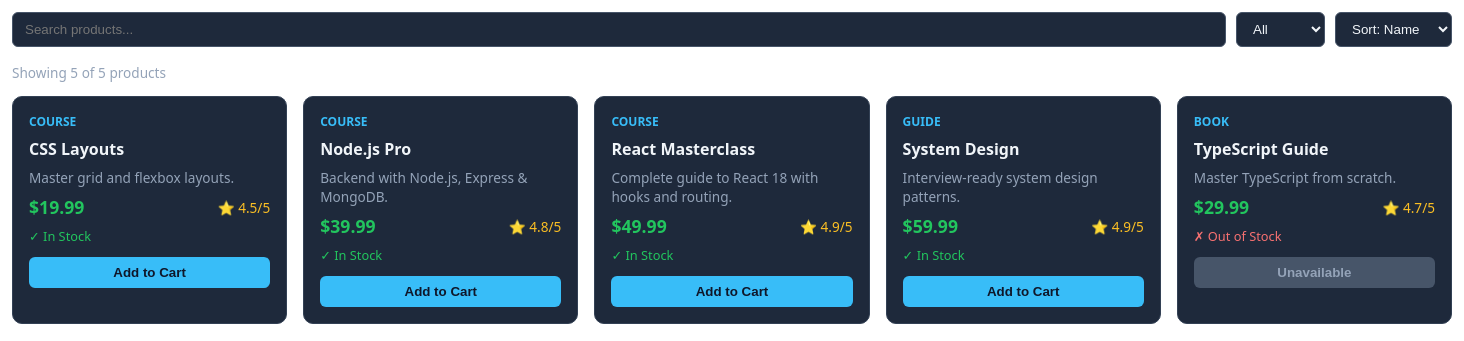
ProductList + ProductCard — Integration Tests › Search functionality › filters products by description text
The width and height of the screenshot is (1464, 341).
Type "interview" into the field with test id "search-input". click: (619, 30)
box: [12,12,1226,47]
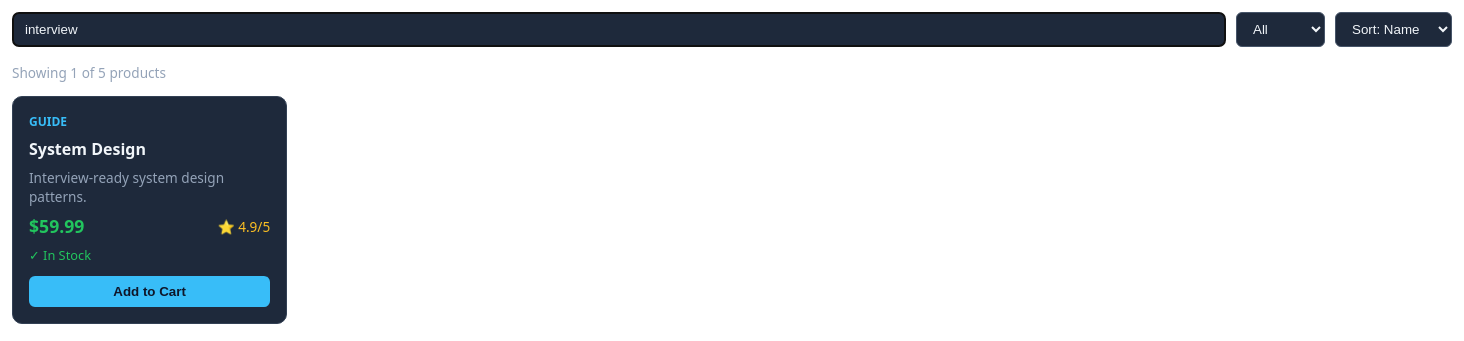
Expected: the heading "System Design" is shown, [29,138,146,160]
Expected: the heading "React Masterclass" is gone
